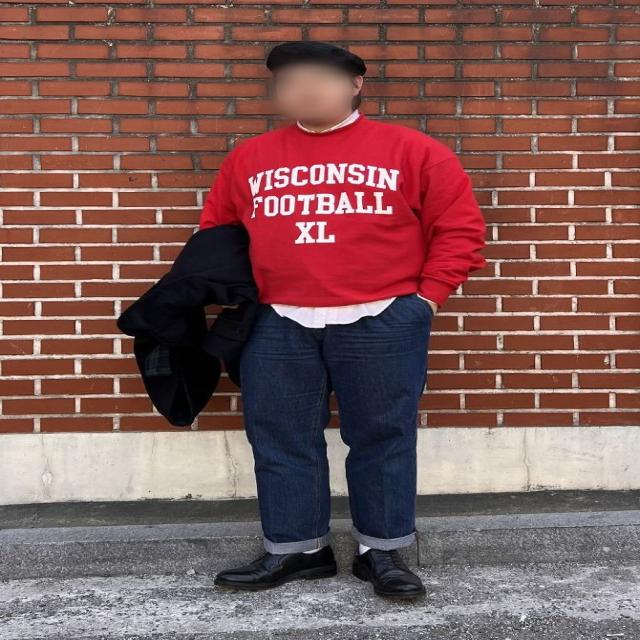denimpants: (236, 294, 428, 555)
mtm: (192, 120, 486, 315)
